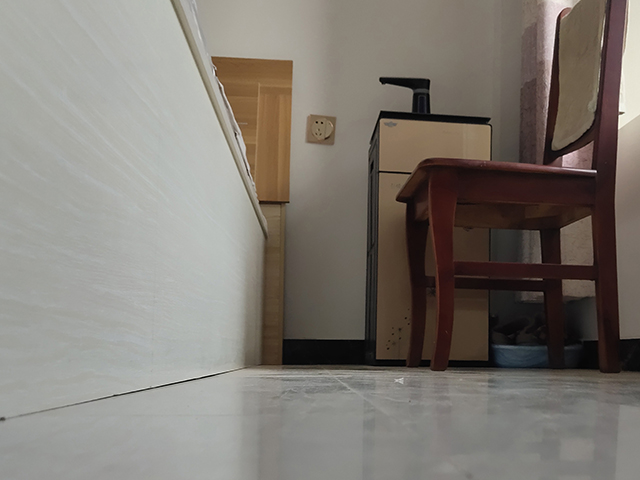bed: (1, 1, 295, 424)
stool: (394, 1, 632, 374)
